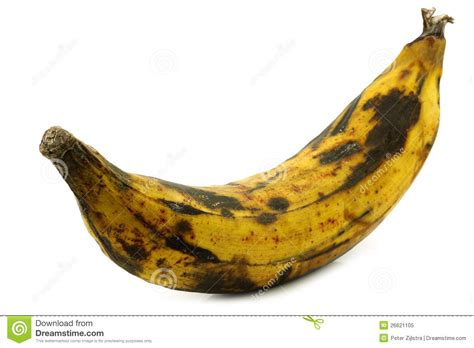banana: (37, 27, 454, 296)
